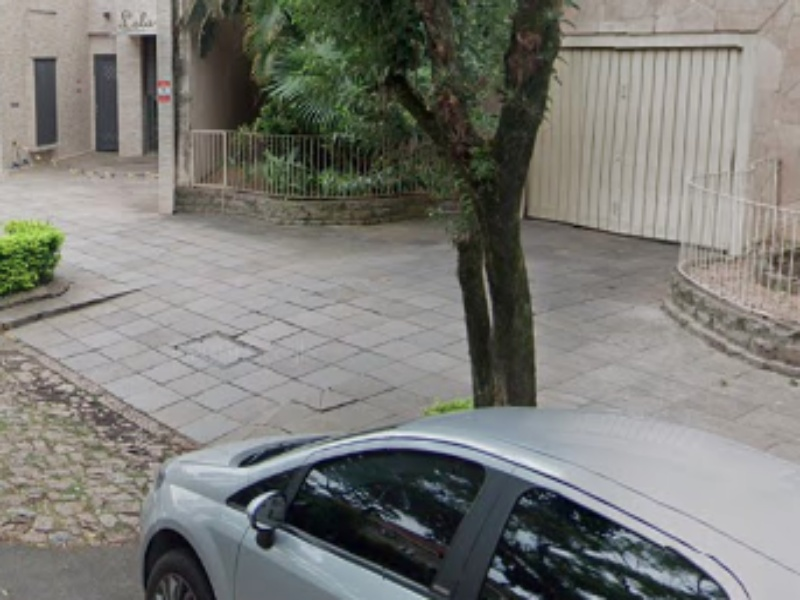g84: (3, 304, 205, 453)
